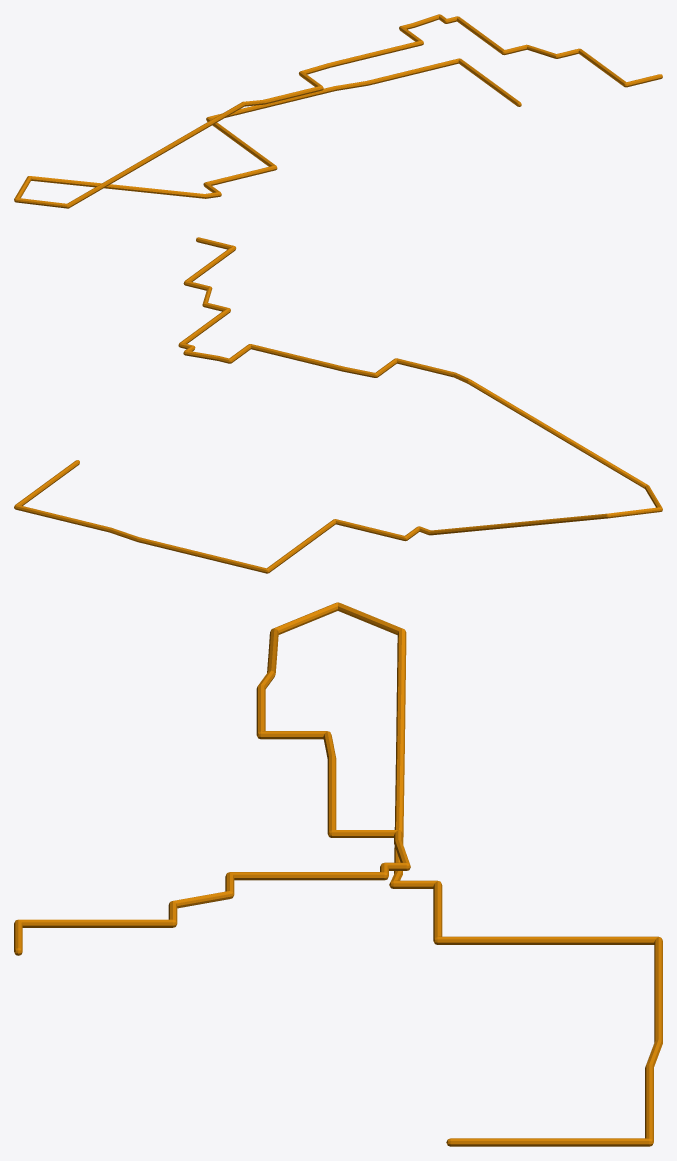
The picture shows the model from 3 angles, top to bottom: view 1: azimuth 30°, elevation 25°; view 2: azimuth 150°, elevation 25°; view 3: azimuth 270°, elevation 25°; orthographic projection. The views are drawn at different scales.
Size of the model in its own units: 2406 by 520 by 1469.
